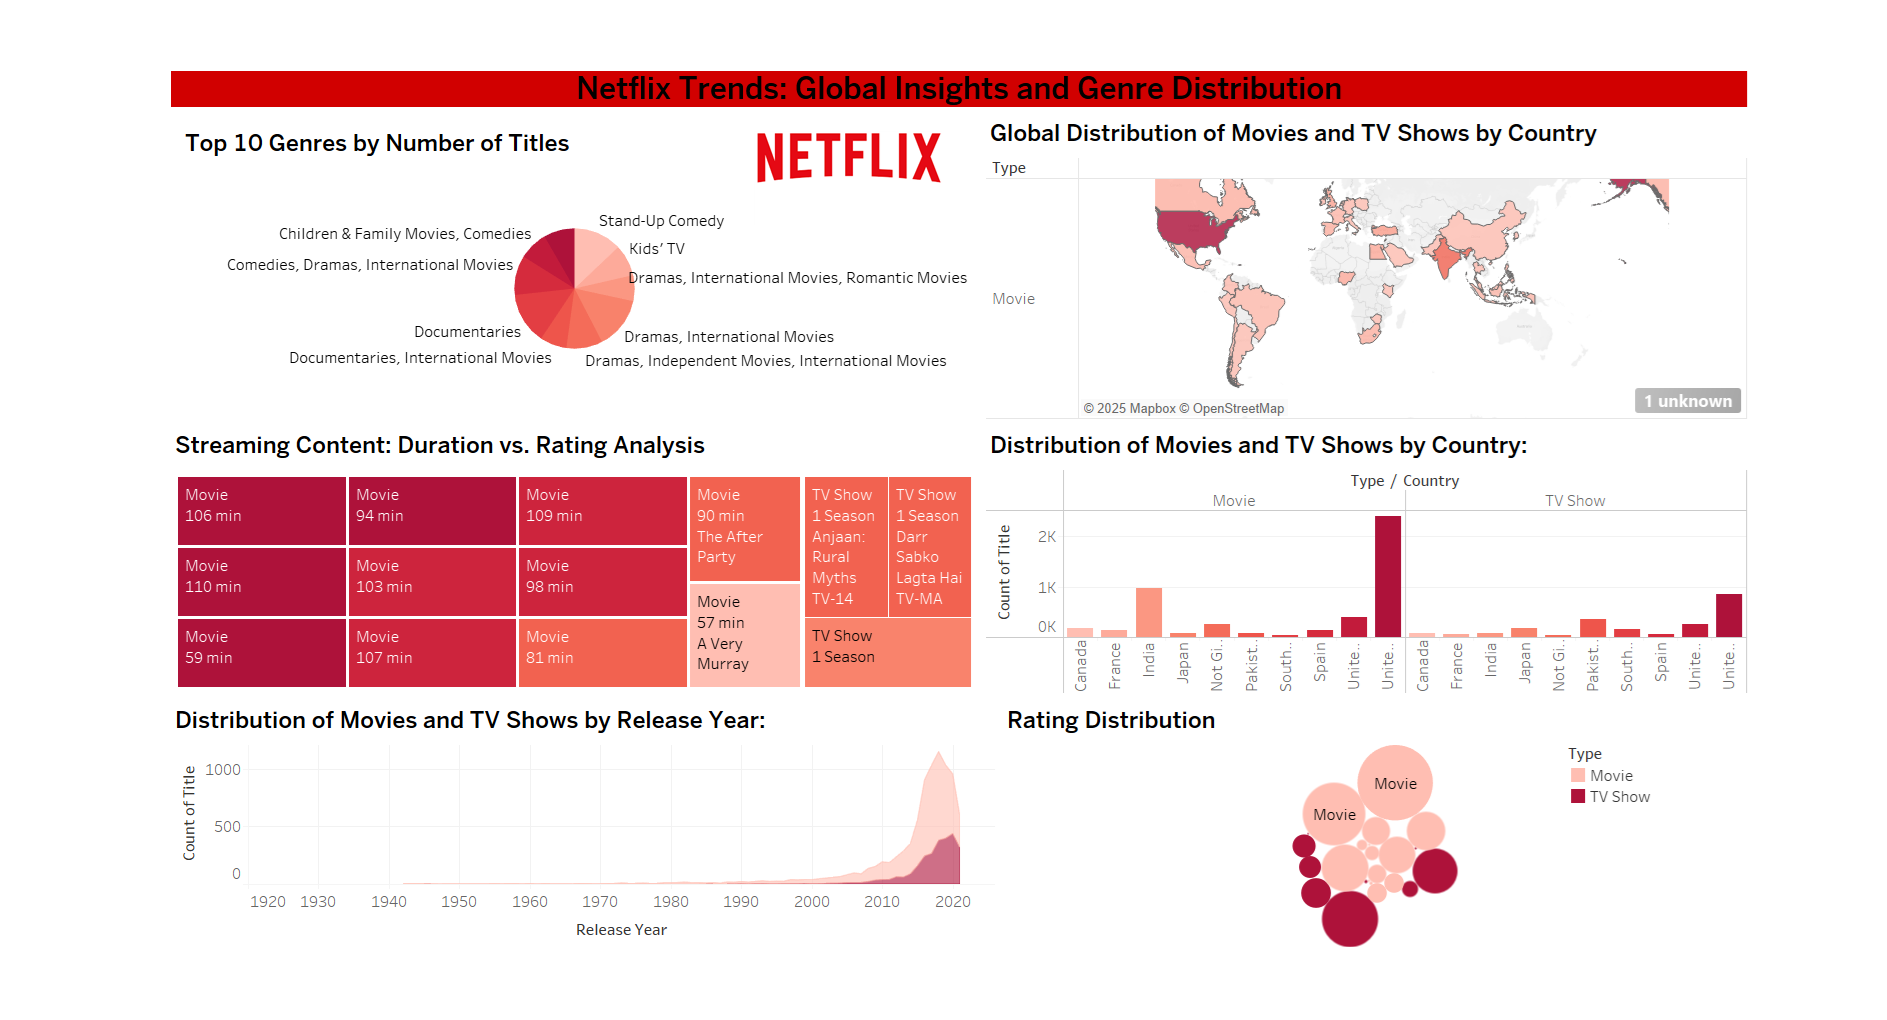

Layout of this report page (visuals, bound fields, positions):
{"tool":"tableau","page":{"name":"Dashboard 1","canvas":[1600,900],"ordinal":0},"visuals":[{"type":"title","box":[8,8,1584,44]},{"type":"worksheet","title":"Sheet 6","mark":"Pie","box":[8,52,815,312]},{"type":"worksheet","title":"Sheet 7","mark":"Automatic","rows":["type"],"box":[823,52,769,312]},{"type":"image","param":"C:/Users/sweth/Downloads/netflix.png","box":[595,72,318,94]},{"type":"worksheet","title":"Sheet 3","mark":"Automatic","box":[8,364,815,275]},{"type":"worksheet","title":"Sheet 1","mark":"Automatic","rows":["title"],"cols":["type","country"],"box":[823,364,769,275]},{"type":"worksheet","title":"Sheet 2","mark":"Area","rows":["title"],"cols":["release_year"],"box":[8,639,832,253]},{"type":"worksheet","title":"Sheet 4","mark":"Circle","box":[840,639,752,253]},{"type":"legend","title":"Sheet 4","param":"[federated.0ym7n33077sn6j1bktbp50xb6jgv].[none:type:nk]","box":[1409,684,140,64]}]}

Visuals, with their boxes on the page's 1600x900 design canvas (x1, y1, x2, y2). These are canvas units, not pixel positions in the 1887x1020 screenshot, which may show the page scaled, cropped or inside an application window:
title: [8, 8, 1592, 52]
"Sheet 6" worksheet (Pie marks): [8, 52, 823, 364]
"Sheet 7" worksheet: [823, 52, 1592, 364]
image: [595, 72, 913, 166]
"Sheet 3" worksheet: [8, 364, 823, 639]
"Sheet 1" worksheet: [823, 364, 1592, 639]
"Sheet 2" worksheet (Area marks): [8, 639, 840, 892]
"Sheet 4" worksheet (Circle marks): [840, 639, 1592, 892]
"Sheet 4" legend: [1409, 684, 1549, 748]
